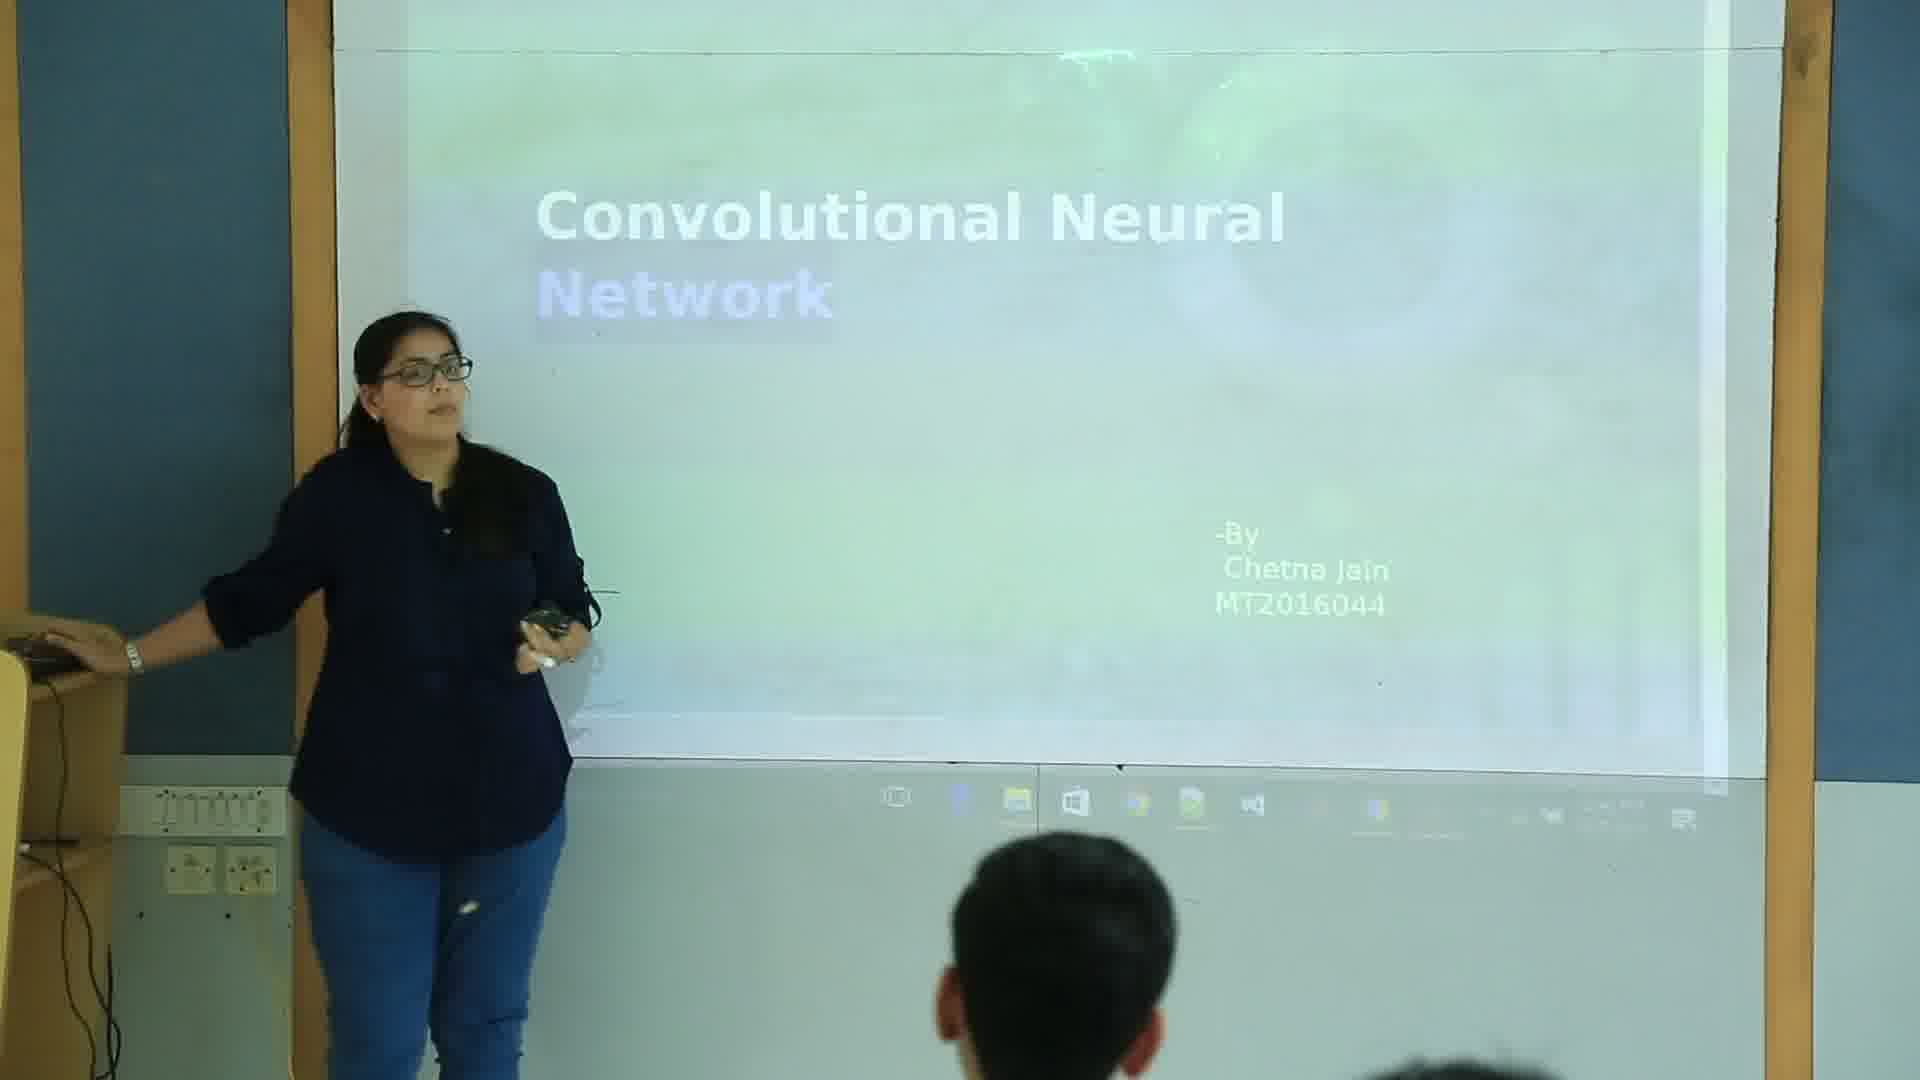slide: (404, 3, 1731, 860)
